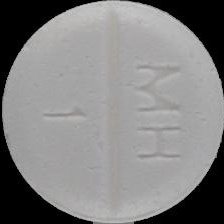0615-7566: (0, 0, 224, 224)
